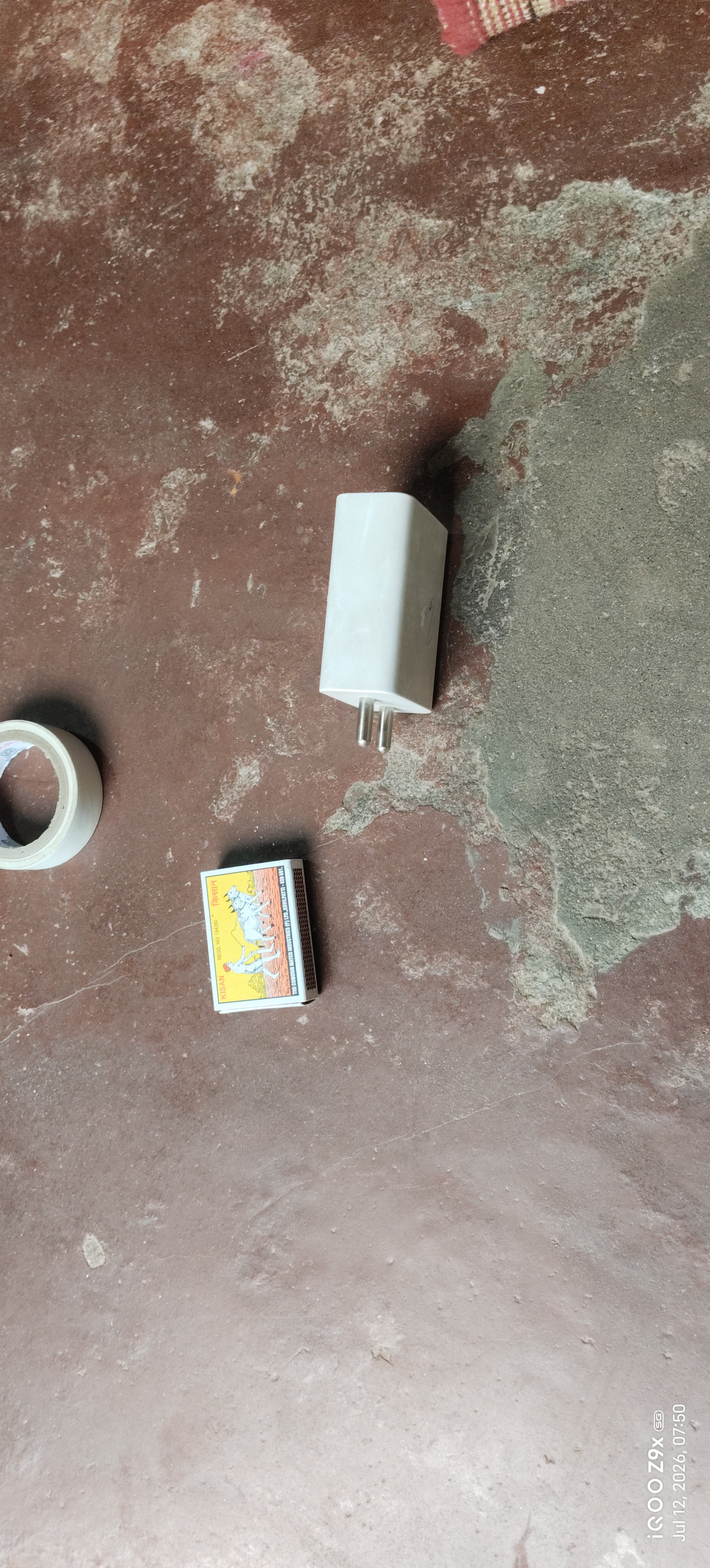charger: (284, 455, 469, 785)
matchbox: (174, 841, 339, 1046)
tape_roll: (0, 667, 113, 940)
